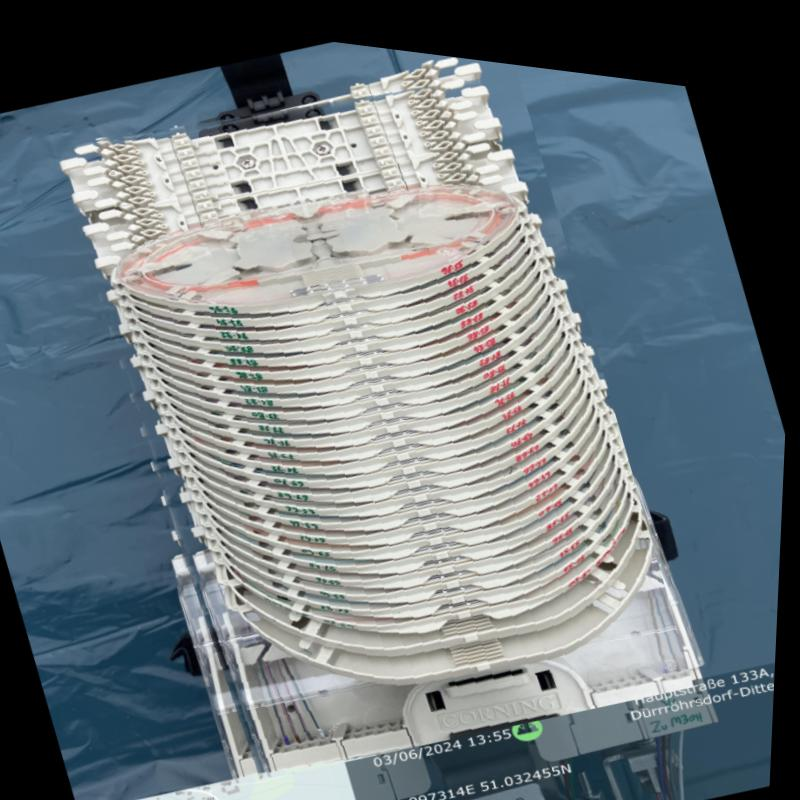NT-Muffen: (24, 5, 720, 800)
